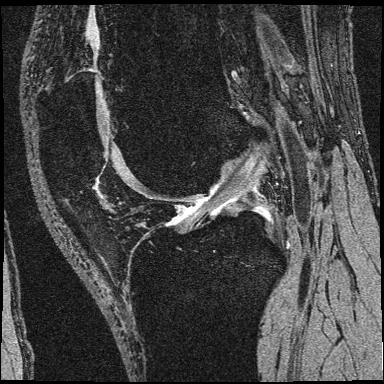SagKneeJointArea: (35, 70, 288, 325)
